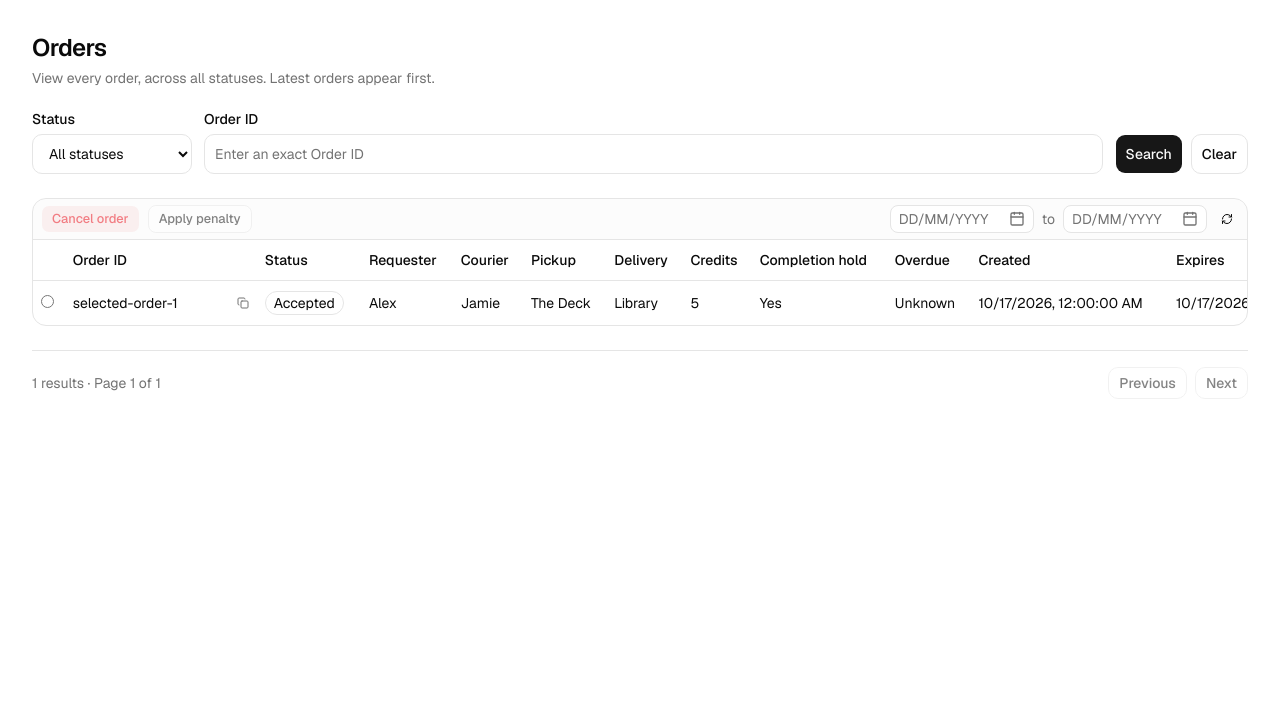
Test: Admin Order row actions › opens Apply penalty and has no adjustment or admin completion
Click the radio button named "Select order selected-order-1": (48, 301) top-left (41, 294), bottom-right (54, 308)
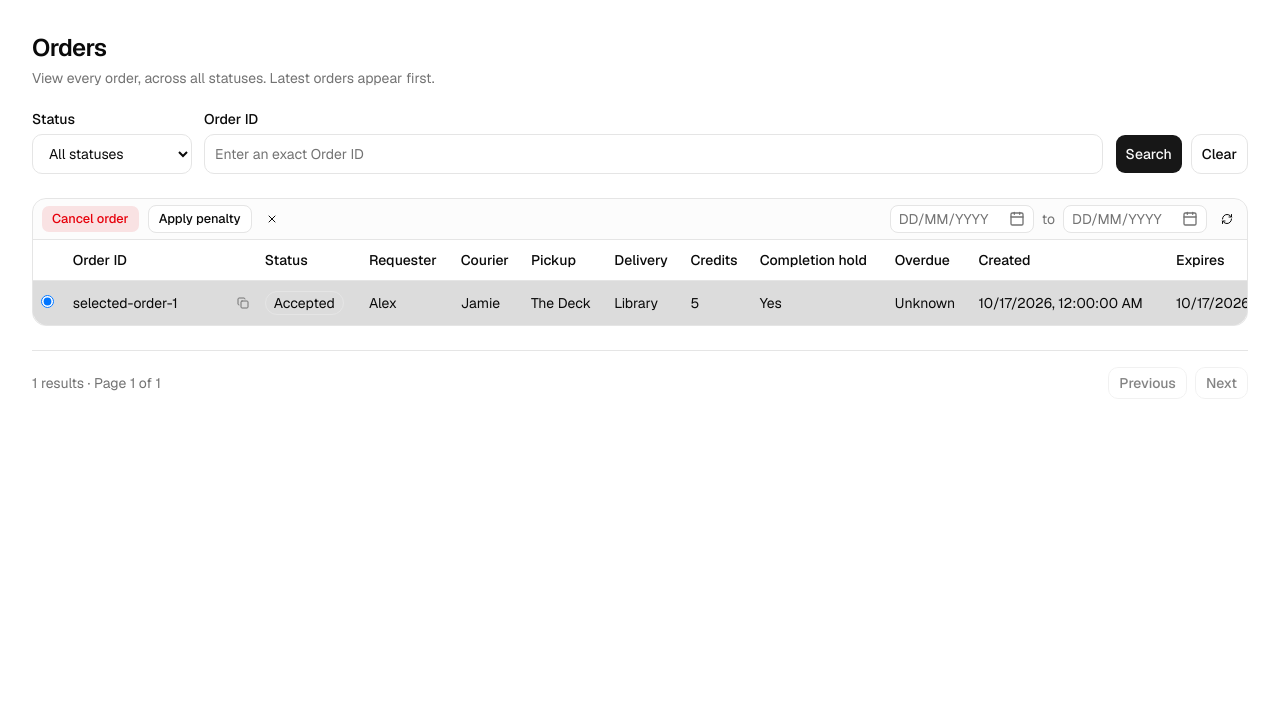
Click the button "Apply penalty": (200, 219) top-left (148, 205), bottom-right (252, 233)
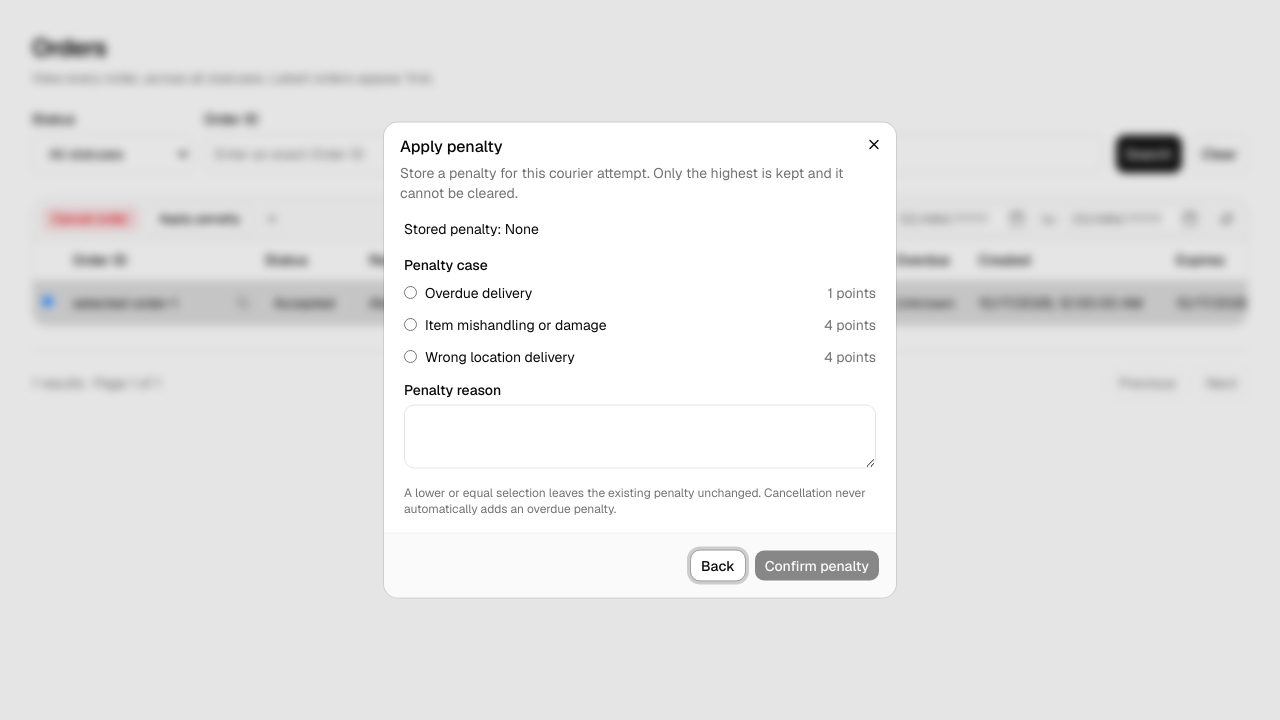
Expected: the dialog "Apply penalty" is shown, top-left (384, 122), bottom-right (896, 598)
Expected: the text "Stored penalty: None" is shown, top-left (404, 220), bottom-right (539, 238)
